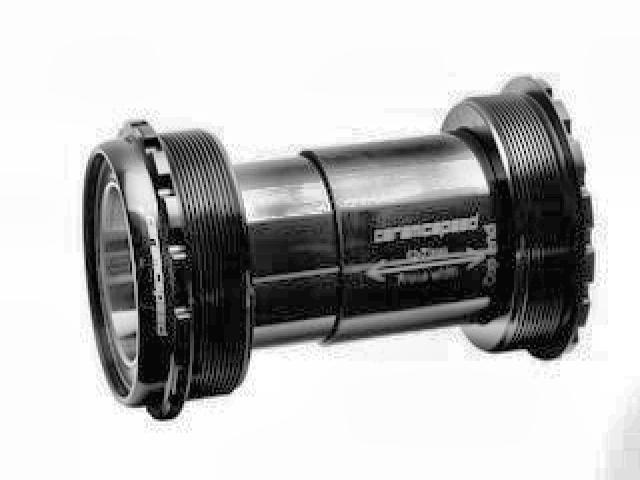bottom_bracket: (80, 73, 596, 424)
